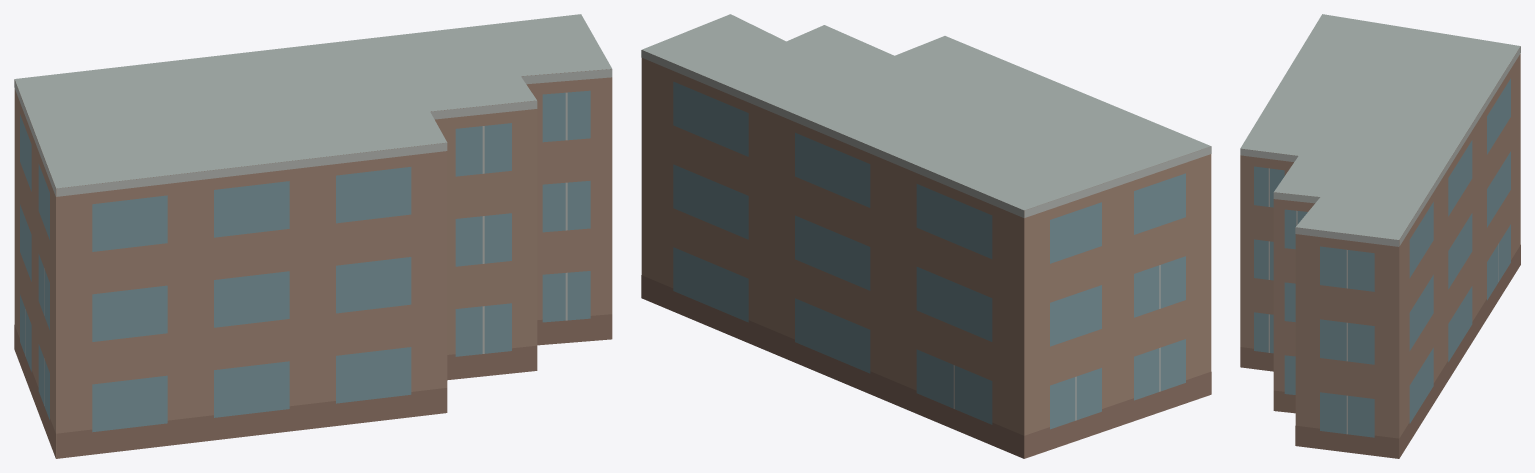
Rendered from survey-upis-32899136.glb.
3 views of the same model, side by side, from view 1: azimuth 30°, elevation 25°; view 2: azimuth 150°, elevation 25°; view 3: azimuth 270°, elevation 25° (orthographic). The views are drawn at different scales.
Parts seen in each view (by area): view 1: survey-upis-32899136.tmp; view 2: survey-upis-32899136.tmp; view 3: survey-upis-32899136.tmp.
Boxes of the visible parts, left/top/right/bottom form: survey-upis-32899136.tmp: left=14, top=14, right=612, bottom=458; survey-upis-32899136.tmp: left=641, top=14, right=1211, bottom=458; survey-upis-32899136.tmp: left=1240, top=14, right=1520, bottom=458.
Size of the model in its own units: 17.3 by 7.8 by 9.08.
